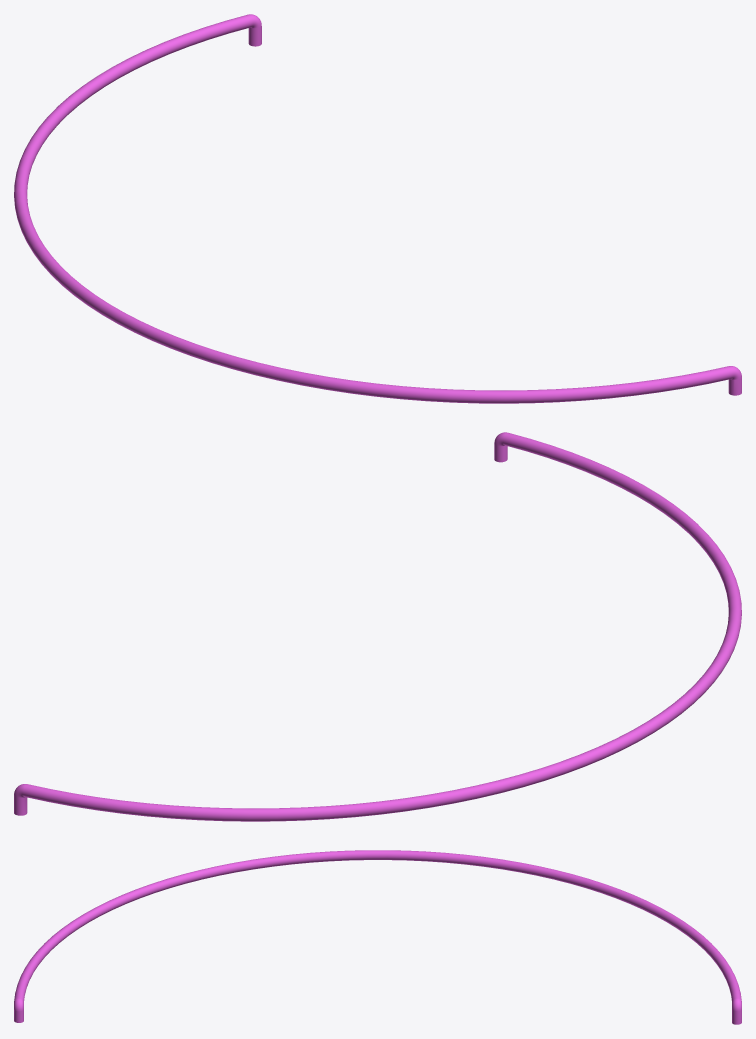
Rendered from semi circlePipe.fbx.
The picture shows the model from 3 angles, top to bottom: view 1: azimuth 30°, elevation 25°; view 2: azimuth 150°, elevation 25°; view 3: azimuth 270°, elevation 25°; orthographic projection. The views are drawn at different scales.
Parts seen in each view (by area): view 1: Cylinder.001; view 2: Cylinder.001; view 3: Cylinder.001.
Boxes of the visible parts, box(x1,y1,x2,y2) form: Cylinder.001: box(14, 14, 741, 403); Cylinder.001: box(14, 432, 741, 821); Cylinder.001: box(14, 850, 741, 1024).
Bounding box in the file's own units: 18.41 × 1.26 × 36.83.
